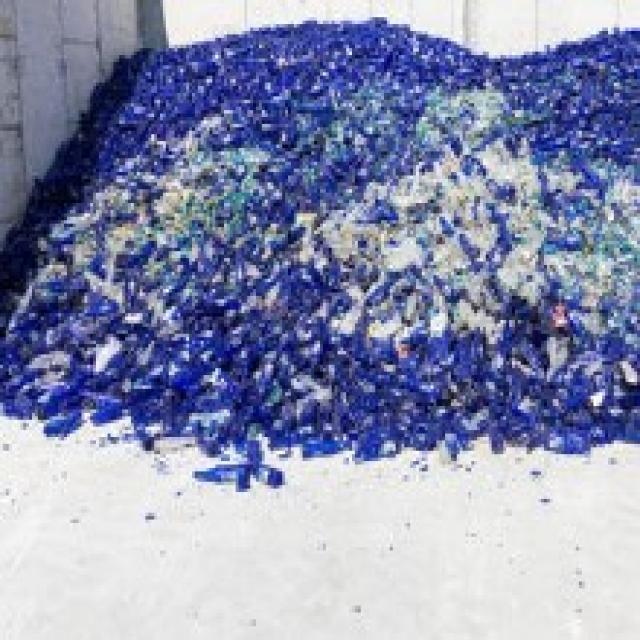electronic: (193, 464, 250, 487)
